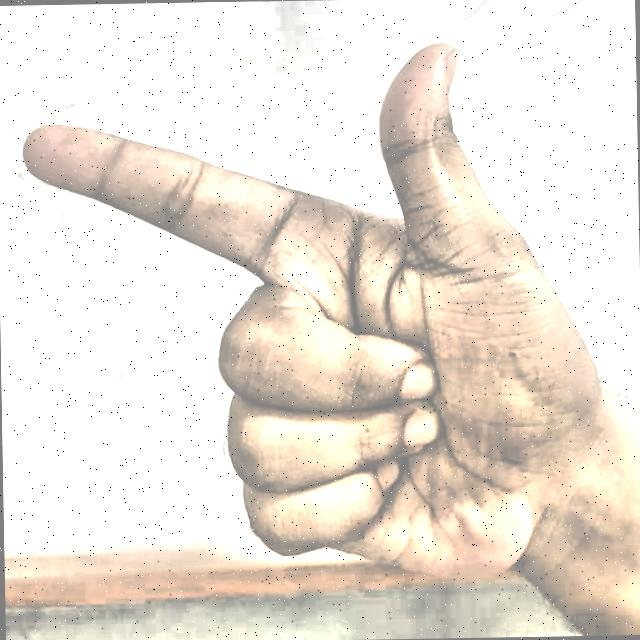Tha: (13, 24, 610, 610)
